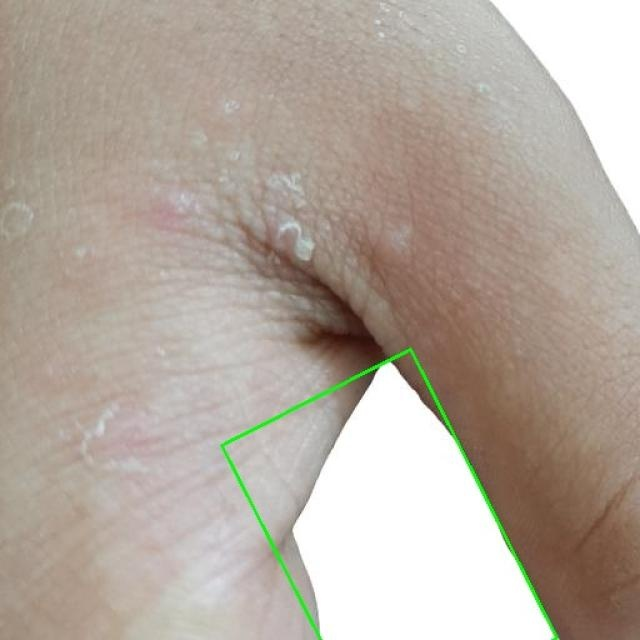Scabies: (221, 349, 557, 640)
